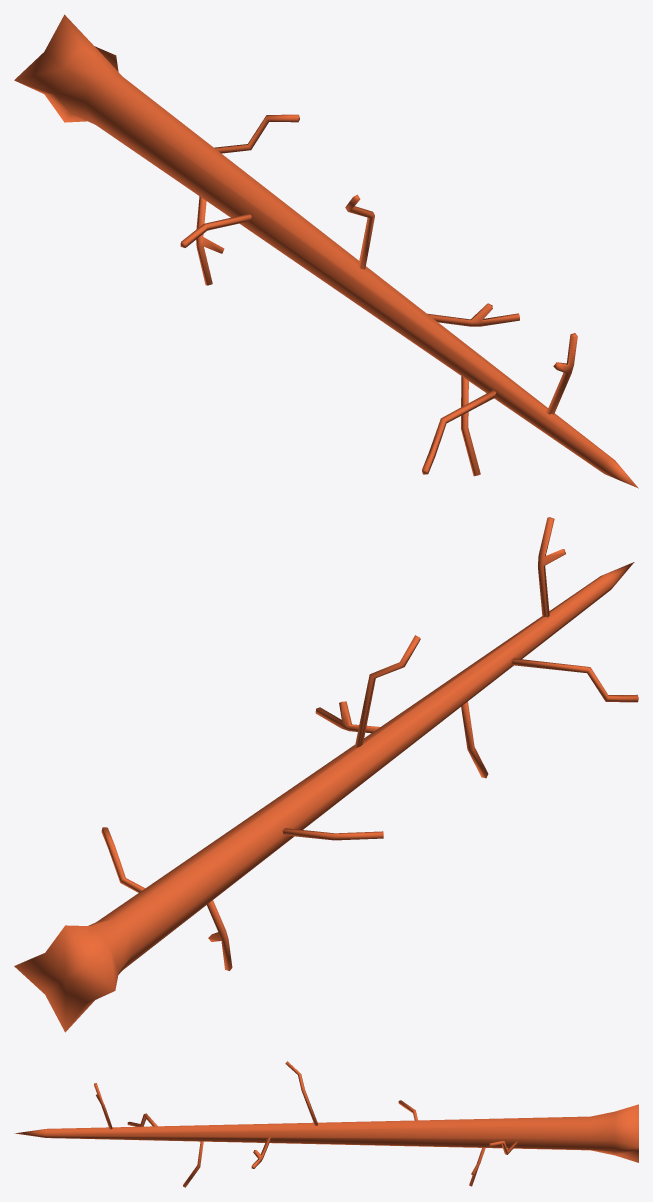
File: TreeDirespectDead.fbx
The picture shows the model from 3 angles, top to bottom: view 1: azimuth 30°, elevation 25°; view 2: azimuth 150°, elevation 25°; view 3: azimuth 270°, elevation 25°; orthographic projection. The views are drawn at different scales.
Parts seen in each view (by area): view 1: Plane.002; view 2: Plane.002; view 3: Plane.002.
Boxes of the visible parts, x1,y1,x2,y2 form: Plane.002: [14, 14, 638, 488]; Plane.002: [14, 517, 638, 1032]; Plane.002: [14, 1061, 638, 1187].
Bounding box in the file's own units: 249 × 247 × 1172.
